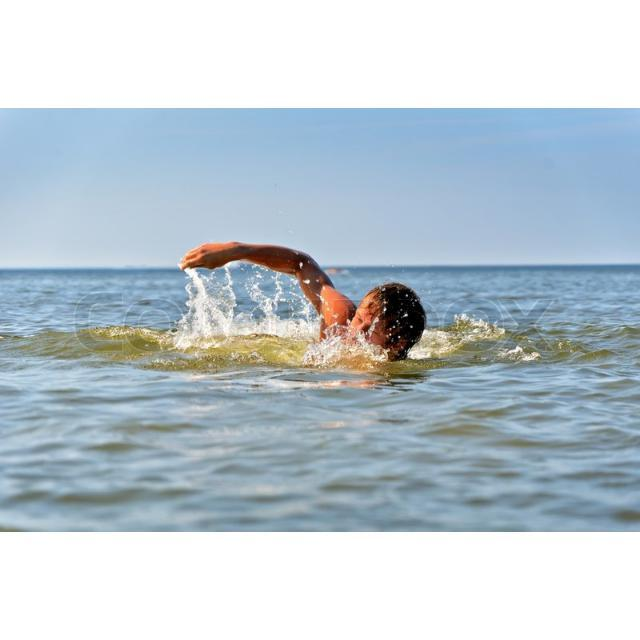human: (176, 238, 430, 378)
